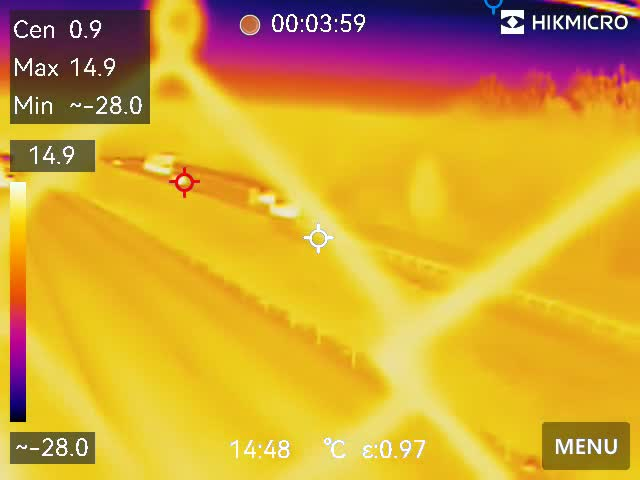heavyTruck: (140, 151, 180, 177)
